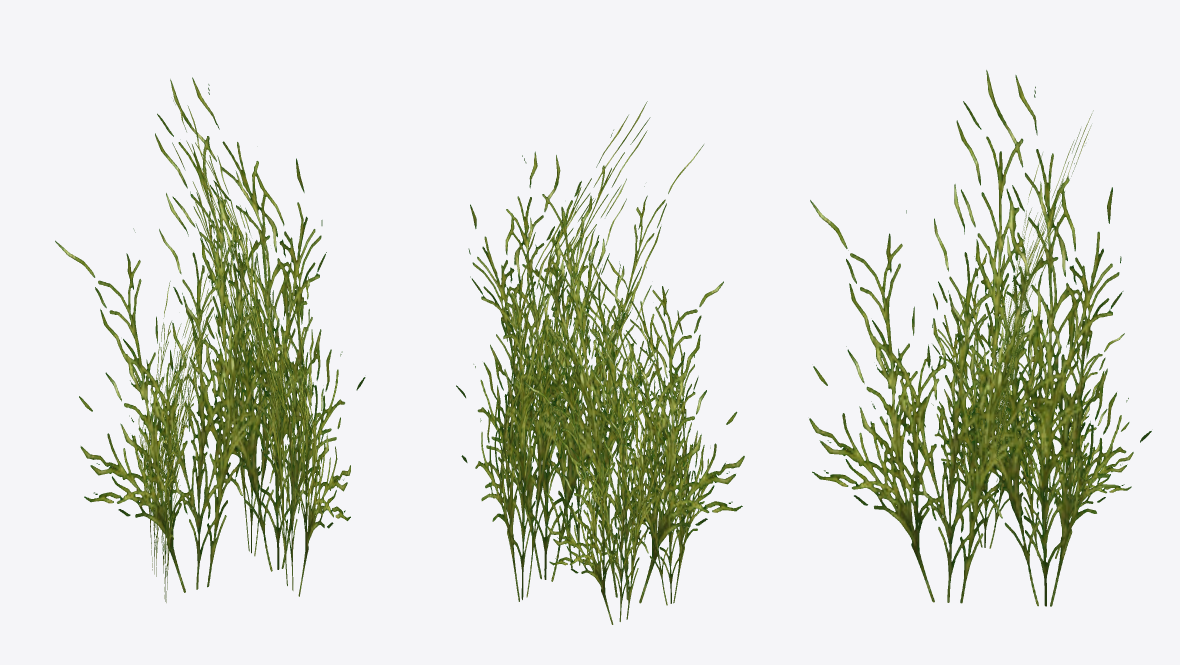
The model's file is grs_weed04.static.glb.
3 renders of one model, left to right at view 1: azimuth 30°, elevation 25°; view 2: azimuth 150°, elevation 25°; view 3: azimuth 270°, elevation 25°, orthographic.
Visible parts, largest first — view 1: grs_weed04; view 2: grs_weed04; view 3: grs_weed04.
Part boxes in pixels (x1=…): grs_weed04: x1=55, y1=77, x2=365, y2=602; grs_weed04: x1=456, y1=101, x2=744, y2=624; grs_weed04: x1=809, y1=70, x2=1151, y2=606.
Size of the model in its own units: 2.28 by 3.74 by 2.45.
1 material, 1 textured.
